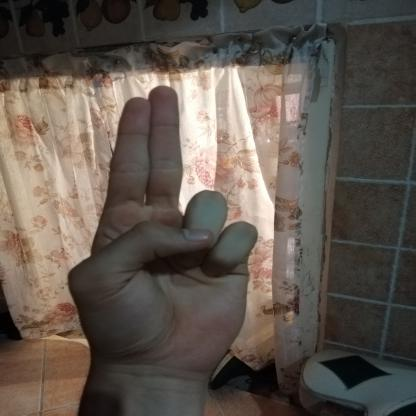TA: (52, 72, 272, 384)
